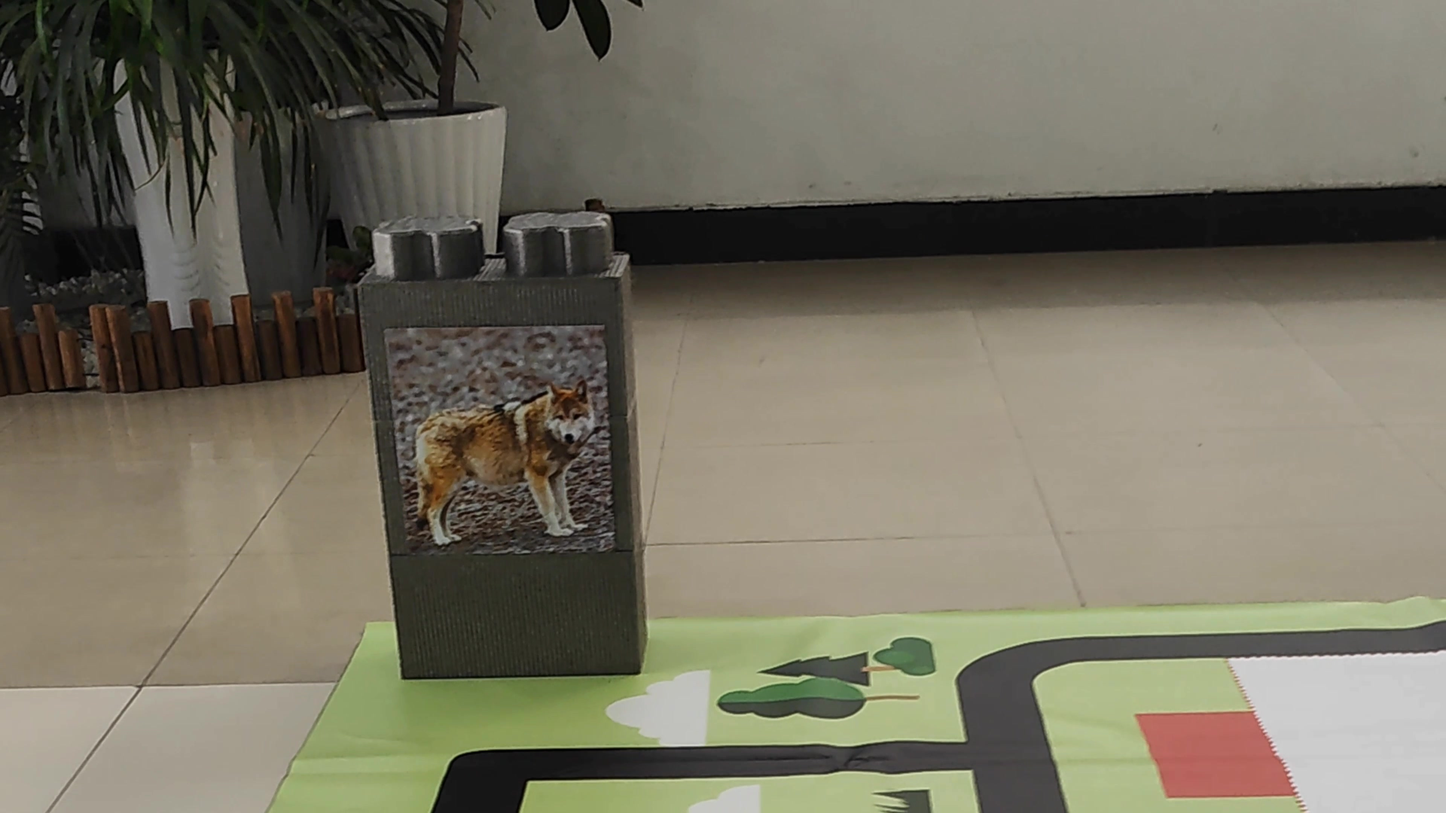wolf: (402, 343, 604, 552)
